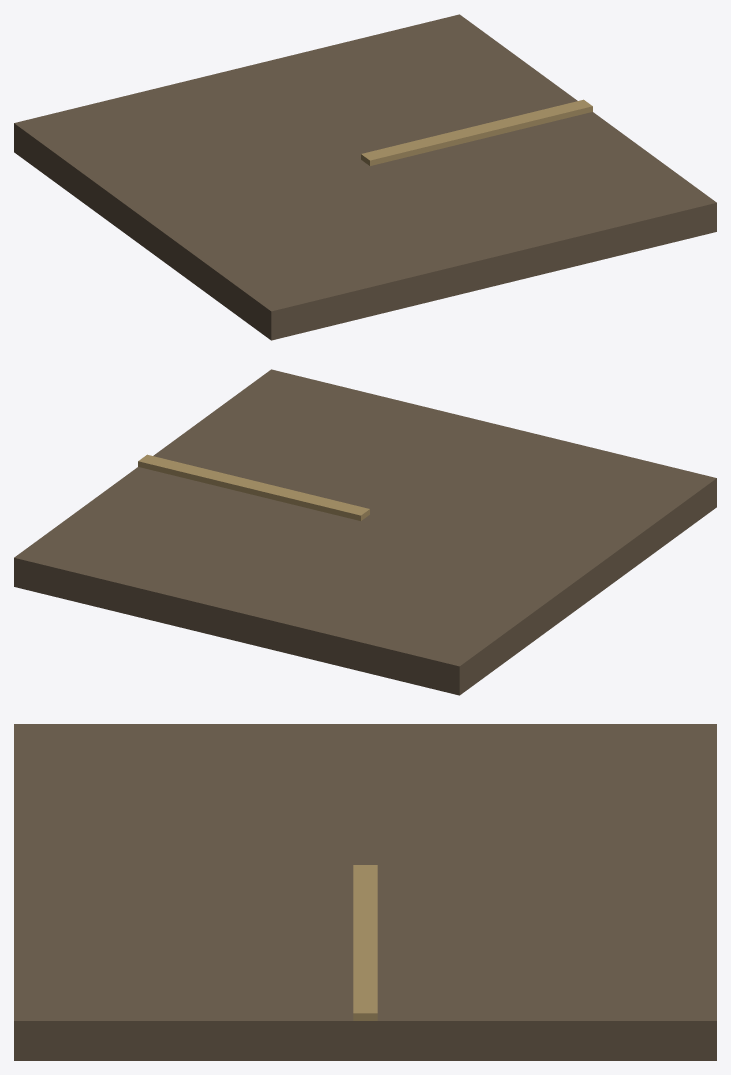
File: terrain-path-corner.lod0.glb
3 renders of one model, top to bottom at view 1: azimuth 30°, elevation 25°; view 2: azimuth 150°, elevation 25°; view 3: azimuth 270°, elevation 25°, orthographic. The views are drawn at different scales.
Parts seen in each view (by area): view 1: terrain-path-corner__body; view 2: terrain-path-corner__body; view 3: terrain-path-corner__body.
Boxes of the visible parts, left/top/right/bottom form: terrain-path-corner__body: left=14, top=14, right=716, bottom=340; terrain-path-corner__body: left=14, top=369, right=716, bottom=695; terrain-path-corner__body: left=14, top=724, right=716, bottom=1060.
Size of the model in its own units: 2 by 0.149 by 2.
